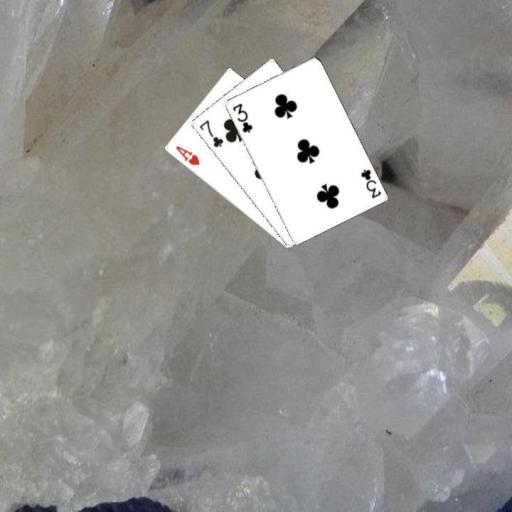3C: (357, 166, 383, 200), (229, 100, 254, 135)
7C: (196, 117, 225, 149)
AH: (172, 142, 201, 167)
